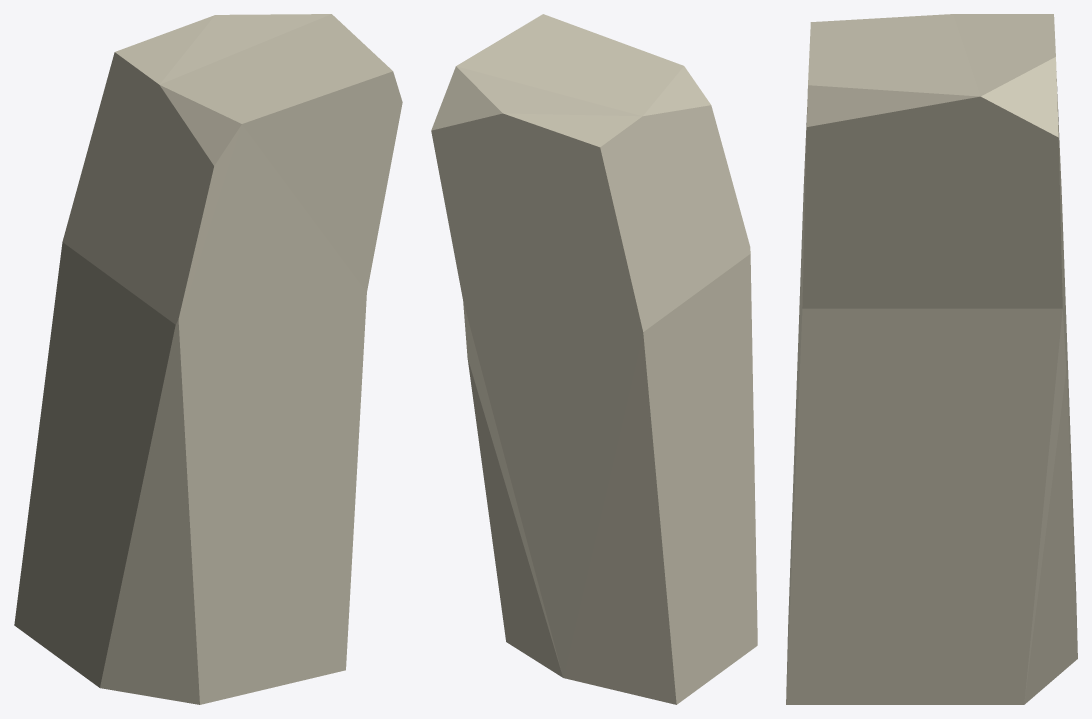
Rendered from Rock_Square_l_06.fbx.
The picture shows the model from 3 angles, left to right: view 1: azimuth 30°, elevation 25°; view 2: azimuth 150°, elevation 25°; view 3: azimuth 270°, elevation 25°; orthographic projection. The views are drawn at different scales.
Parts seen in each view (by area): view 1: Rock_Square_l_06; view 2: Rock_Square_l_06; view 3: Rock_Square_l_06.
Part boxes in pixels (x1,y1,x2,y2): Rock_Square_l_06: (14, 14, 402, 704); Rock_Square_l_06: (431, 14, 757, 704); Rock_Square_l_06: (786, 14, 1077, 704).
Size of the model in its own units: 166 by 334 by 136.
